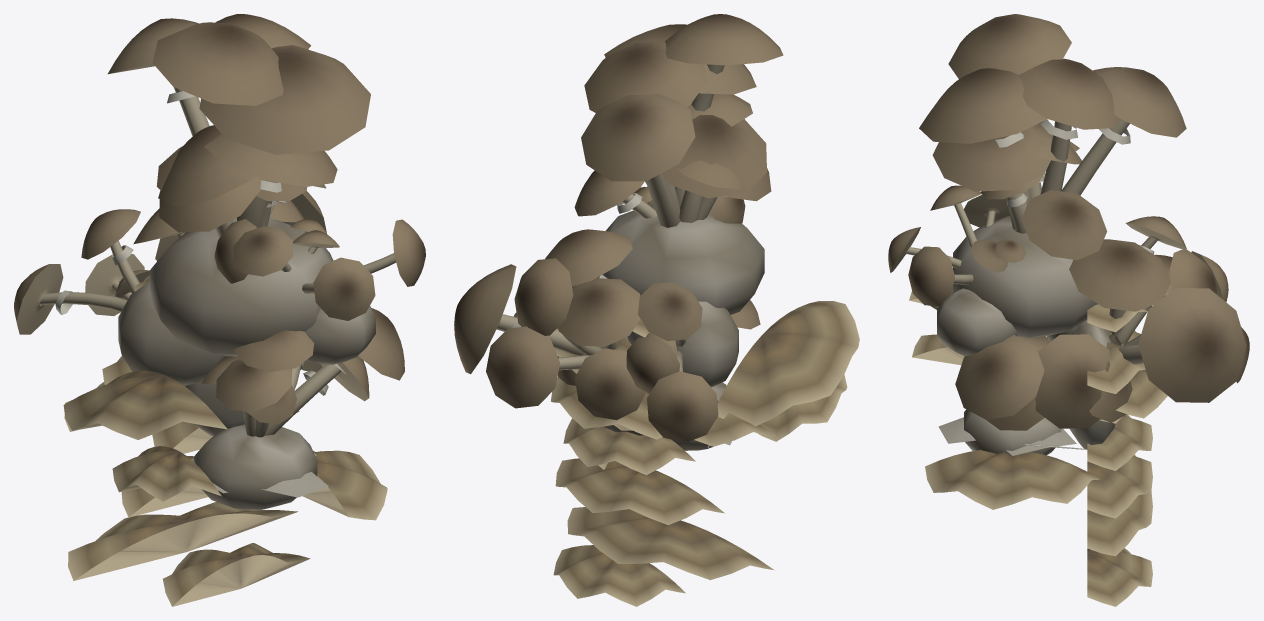
Rendered from growths.glb.
3 renders of one model, left to right at view 1: azimuth 30°, elevation 25°; view 2: azimuth 150°, elevation 25°; view 3: azimuth 270°, elevation 25°, orthographic. The views are drawn at different scales.
Parts seen in each view (by area): view 1: crown, shoulder, back, mat; view 2: crown, back, shoulder; view 3: crown, back, shoulder, mat.
Boxes of the visible parts, <box> form: crown: <box>14,14,425,501</box>; shoulder: <box>193,308,404,520</box>; back: <box>64,191,326,606</box>; mat: <box>191,453,328,497</box>; crown: <box>551,14,859,442</box>; back: <box>454,229,777,606</box>; shoulder: <box>557,285,760,469</box>; crown: <box>888,14,1228,418</box>; back: <box>1069,239,1249,606</box>; shoulder: <box>925,287,1132,509</box>; mat: <box>938,417,1087,455</box>.
Size of the model in its own units: 0.3784 by 0.6711 by 0.4121.
